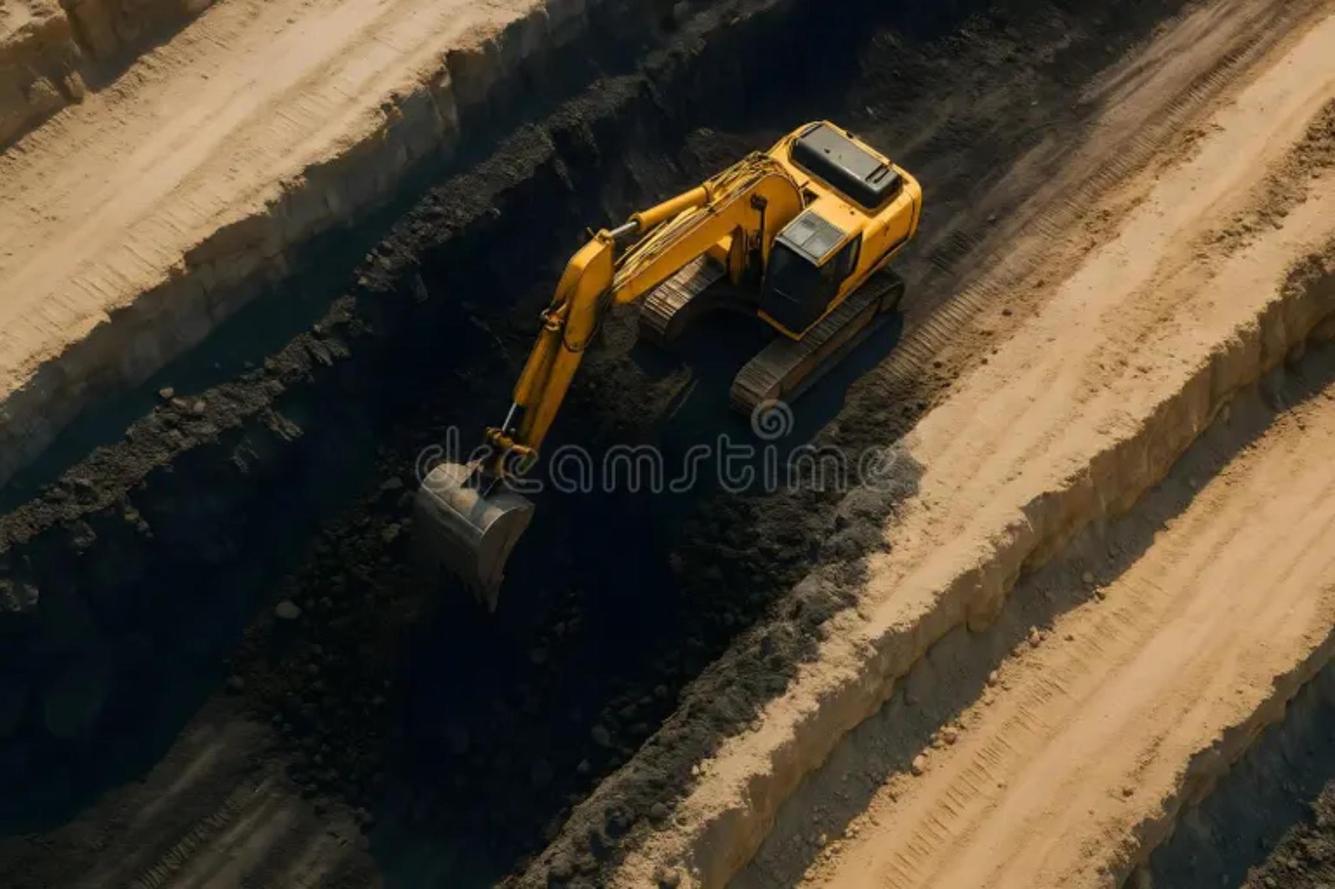excavator: (415, 122, 921, 610)
